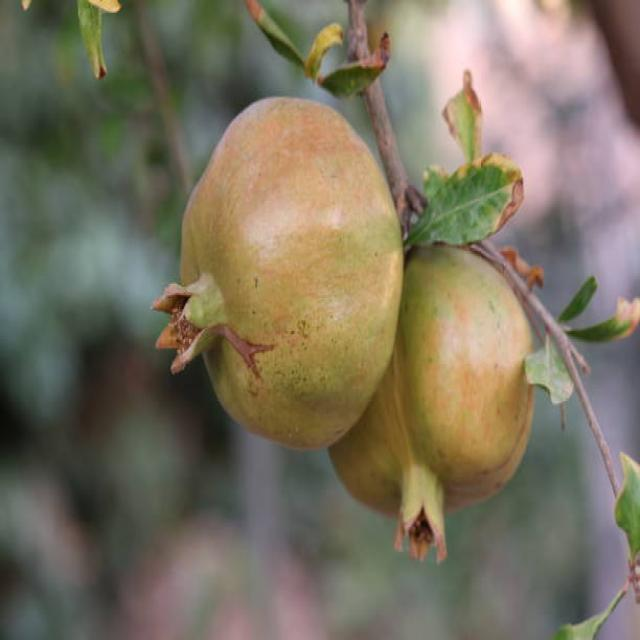Unripe: (154, 92, 402, 450)
